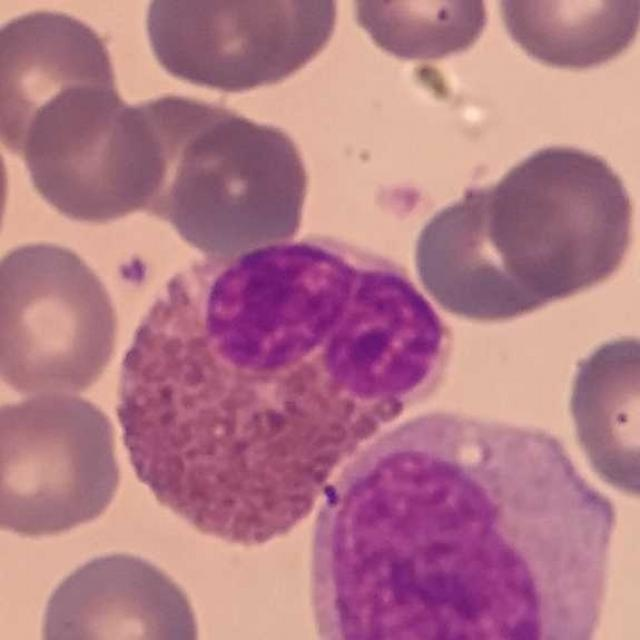Eosinophil: (105, 222, 454, 553)
Monocyte: (299, 407, 611, 640)
Platelets: (112, 250, 156, 290)
RBC: (409, 175, 583, 327), (481, 138, 639, 303), (18, 82, 169, 227), (167, 109, 315, 254), (0, 235, 124, 398), (0, 385, 127, 541), (0, 1, 124, 158), (100, 91, 243, 220), (33, 545, 207, 639), (139, 0, 297, 97), (561, 327, 640, 502), (217, 0, 346, 89), (490, 0, 639, 76), (344, 1, 495, 65)
